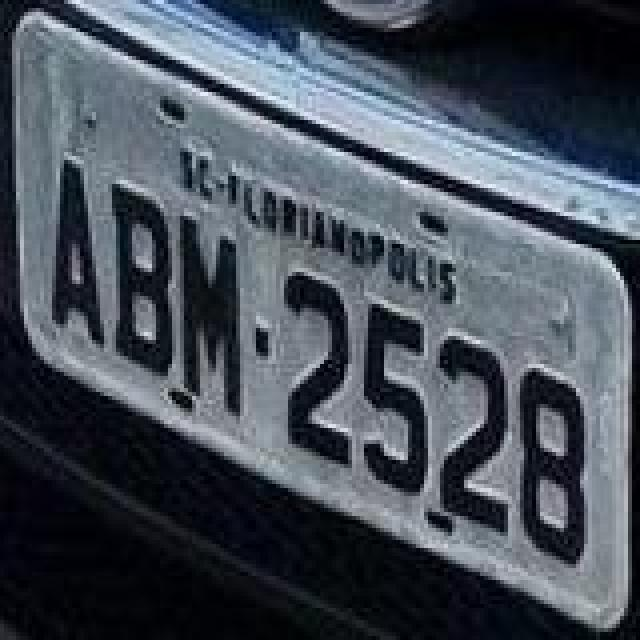2: (432, 336, 512, 544), (284, 266, 356, 470)
5: (360, 300, 432, 500)
8: (514, 364, 590, 572)
A: (50, 162, 110, 350)
B: (112, 180, 176, 380)
M: (176, 212, 240, 420)
